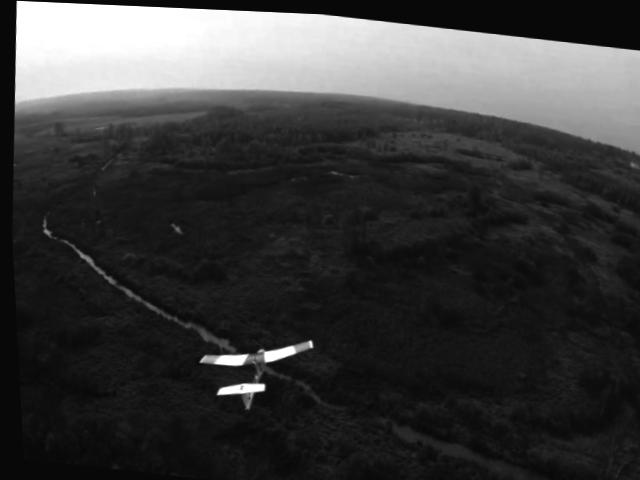hedef: (185, 322, 313, 421)
